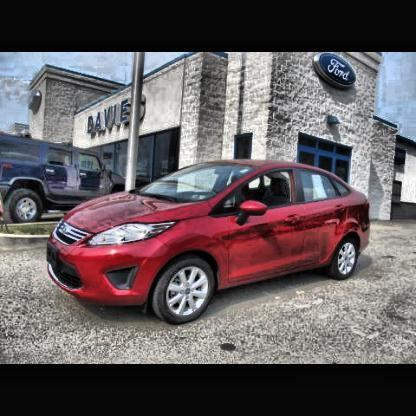Ford Fiesta Sedan 2012: (47, 161, 372, 328)
